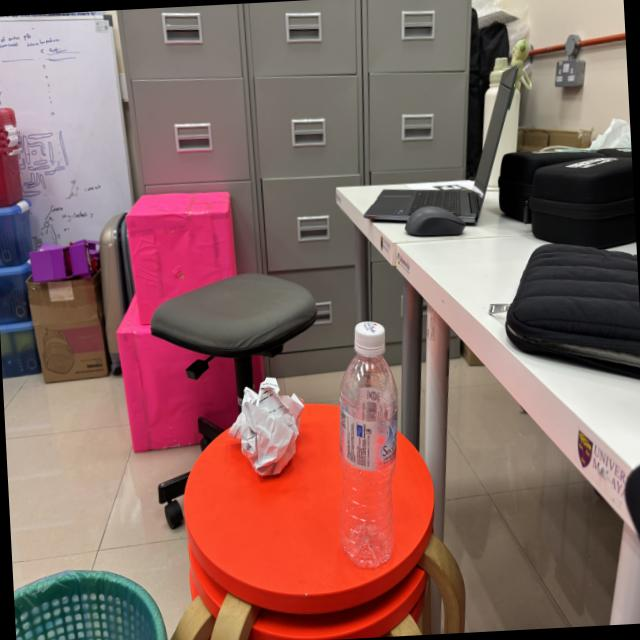crumpled_paper: (220, 370, 314, 487)
plastic_bottle: (321, 314, 412, 580)
